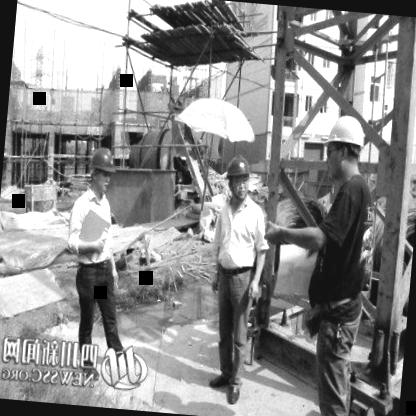helmet: (317, 108, 374, 188), (82, 136, 121, 200), (221, 148, 255, 202)
